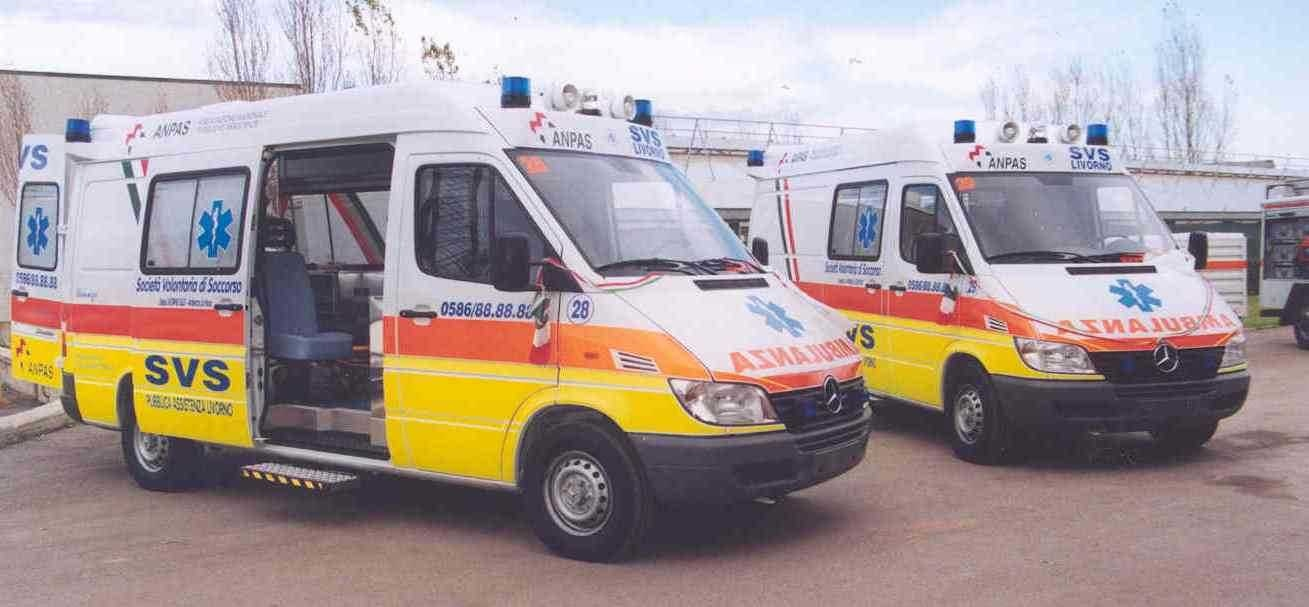Ambulance: (0, 59, 906, 571), (795, 116, 1248, 458)
